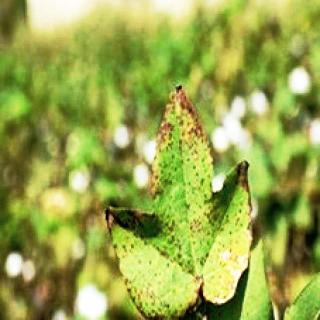leaf spot: (108, 79, 255, 313)
